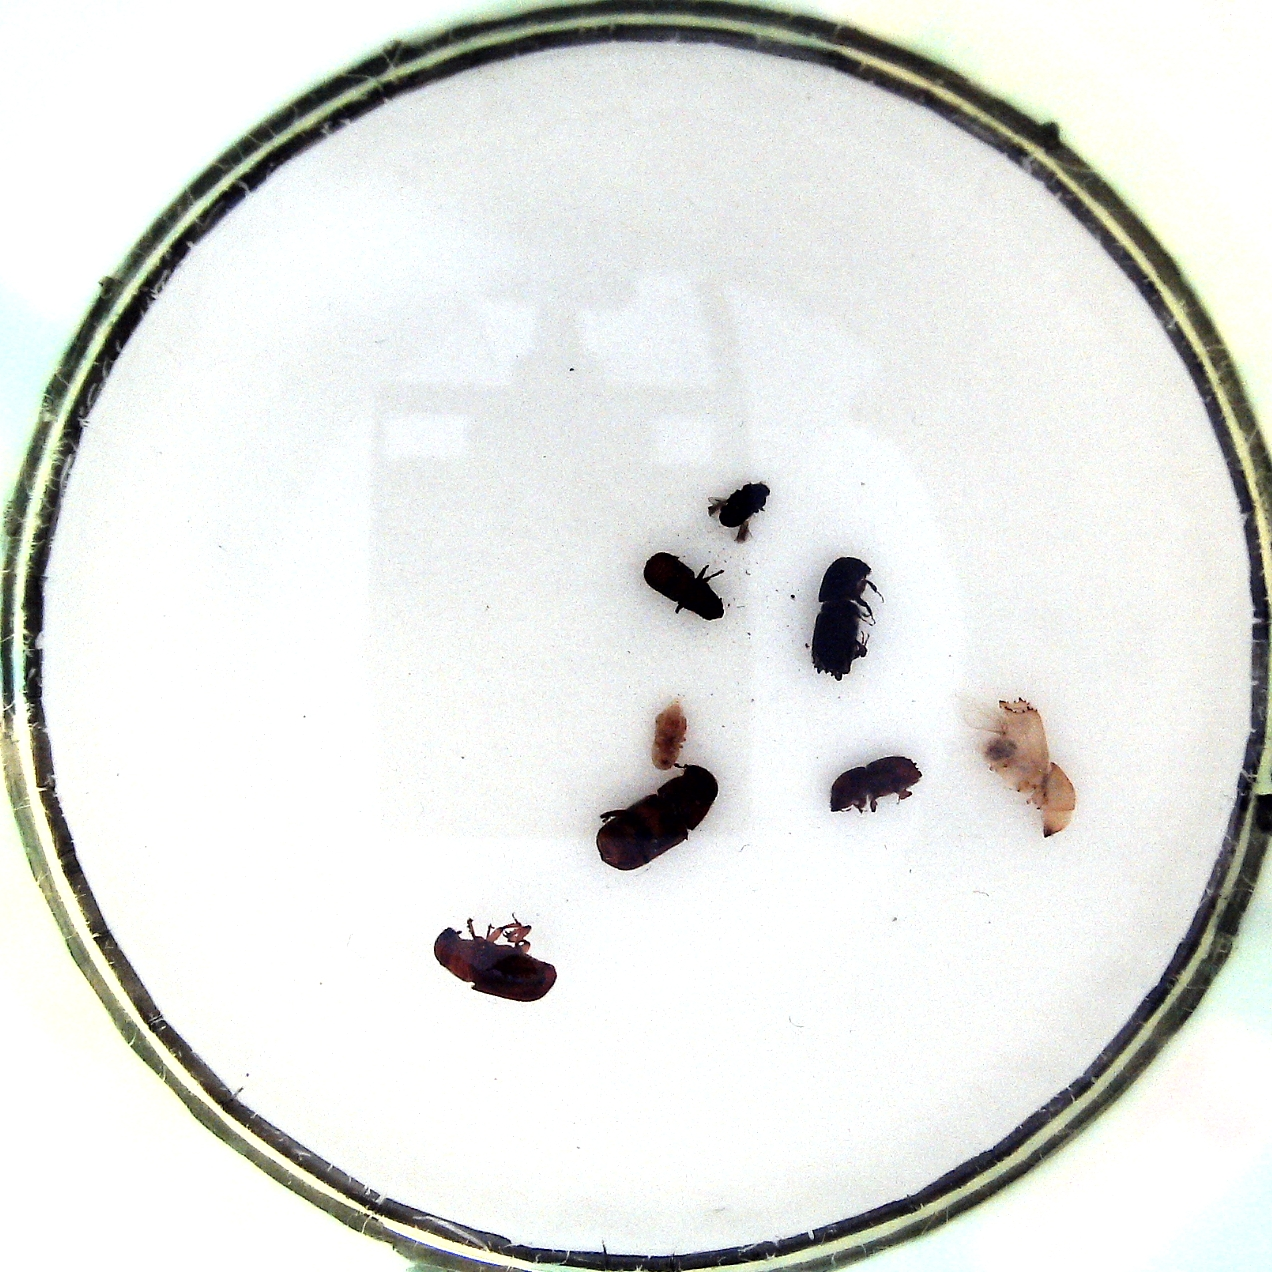Boerner: (976, 694, 1077, 840), (803, 553, 886, 690)
Leconte: (596, 765, 719, 872), (427, 917, 561, 1009)
Linnaeus: (825, 752, 927, 824)
acuminatus: (646, 701, 697, 778)
armandi: (643, 543, 728, 626)
coleoptera: (704, 481, 771, 538)
